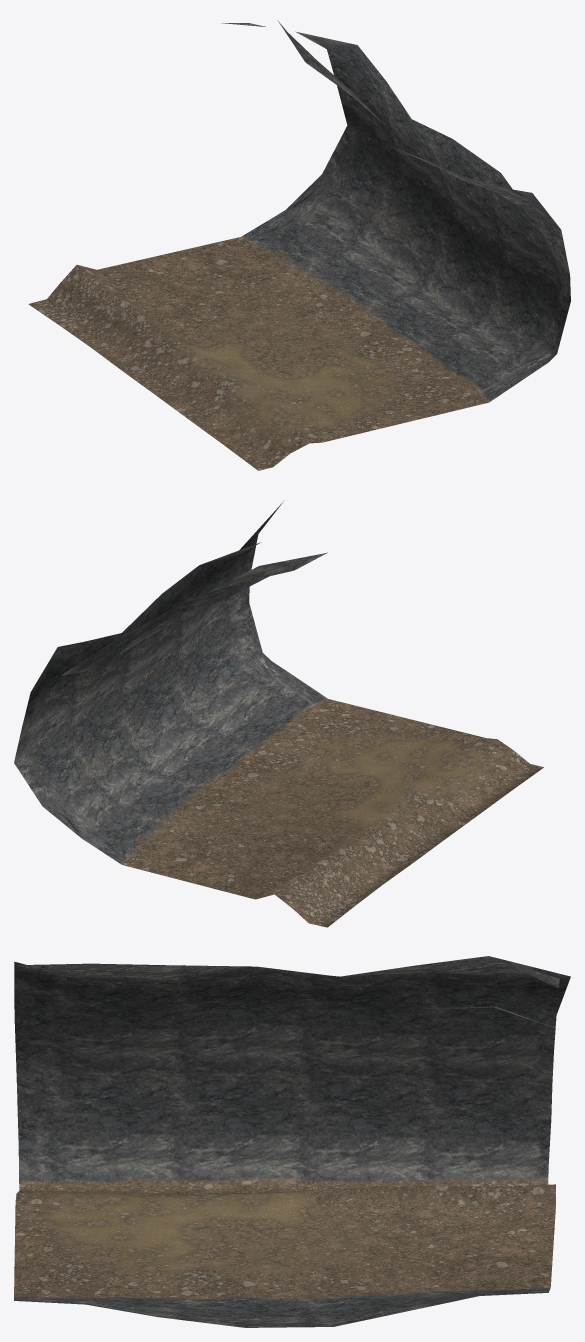
File: TunnelA8__1_.glb
3 views of the same model, one above another, from view 1: azimuth 30°, elevation 25°; view 2: azimuth 150°, elevation 25°; view 3: azimuth 270°, elevation 25° (orthographic). The views are drawn at different scales.
Parts seen in each view (by area): view 1: TunnelA8__1_; view 2: TunnelA8__1_; view 3: TunnelA8__1_.
Boxes of the visible parts, x1=… form: TunnelA8__1_: x1=28, y1=20, x2=570, y2=470; TunnelA8__1_: x1=14, y1=500, x2=543, y2=927; TunnelA8__1_: x1=14, y1=956, x2=570, y2=1327.
Bounding box in the file's own units: 4.3 × 2.93 × 5.12.
1 material, 1 textured.
